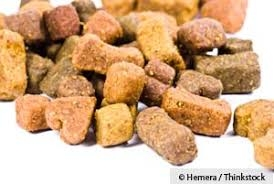kitchen_waste: (133, 105, 206, 165), (160, 83, 233, 142), (189, 48, 265, 98), (69, 30, 152, 75), (230, 96, 274, 170), (43, 89, 98, 146), (133, 16, 186, 70), (1, 26, 35, 102), (89, 101, 137, 148), (12, 89, 60, 135), (98, 59, 147, 104), (174, 16, 230, 55), (82, 8, 126, 48), (40, 2, 83, 41)
